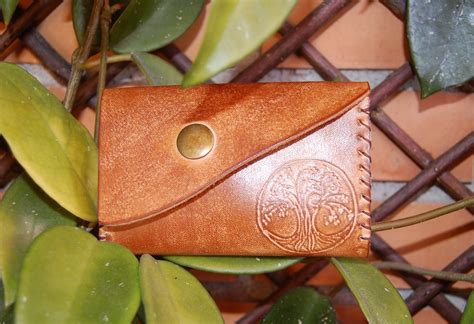cuero: (96, 81, 372, 259)
